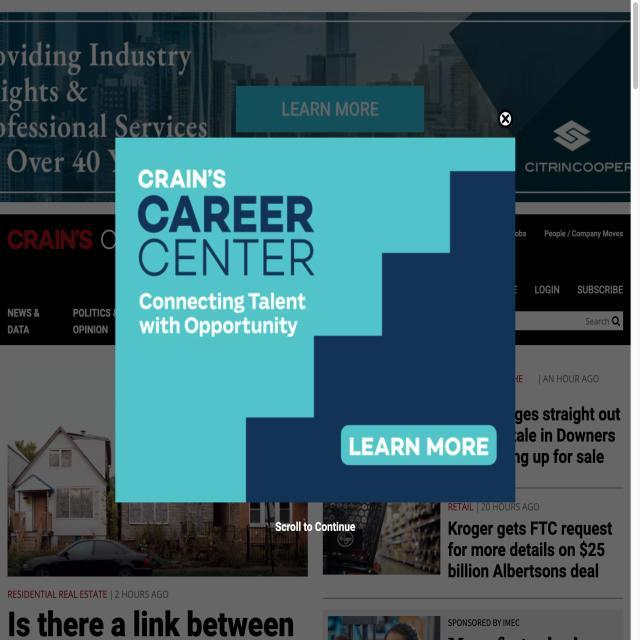modal: (101, 125, 528, 520)
